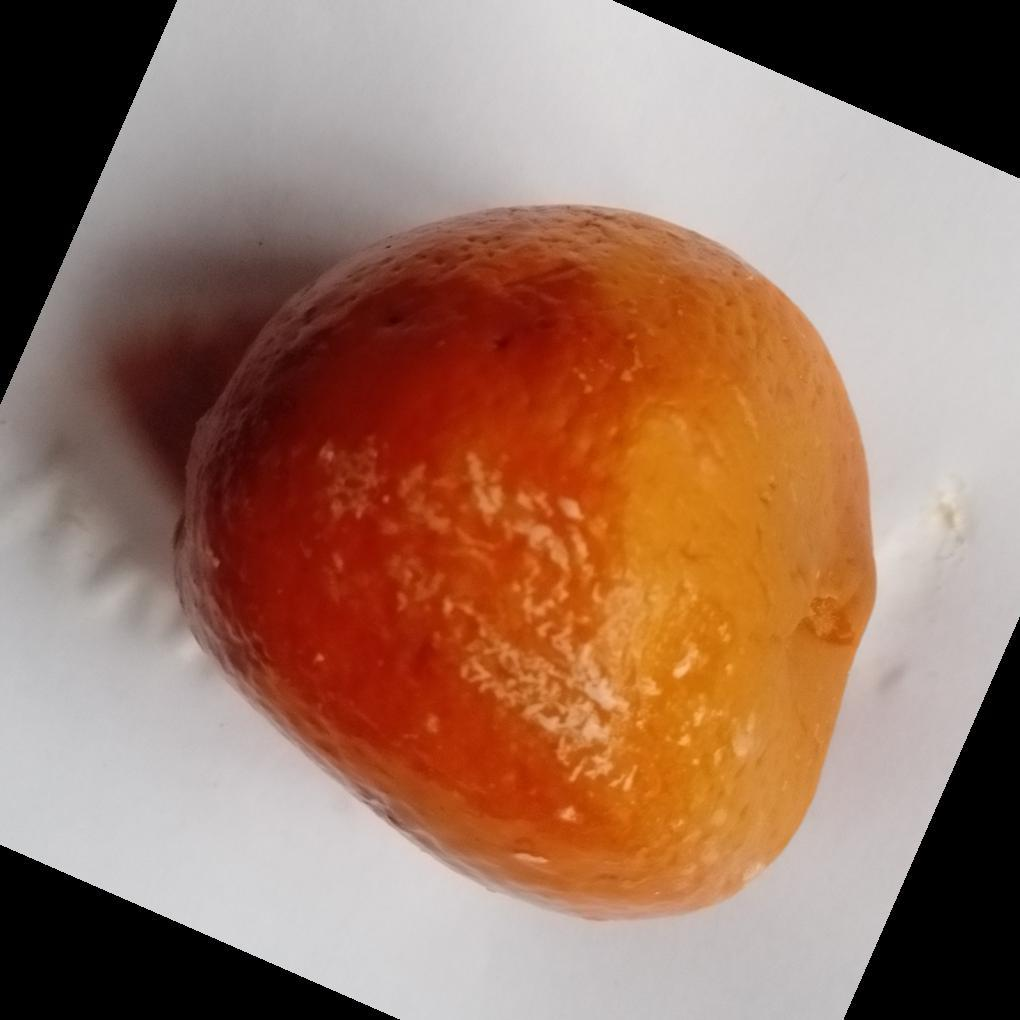FreshOrange: (173, 206, 878, 925)
